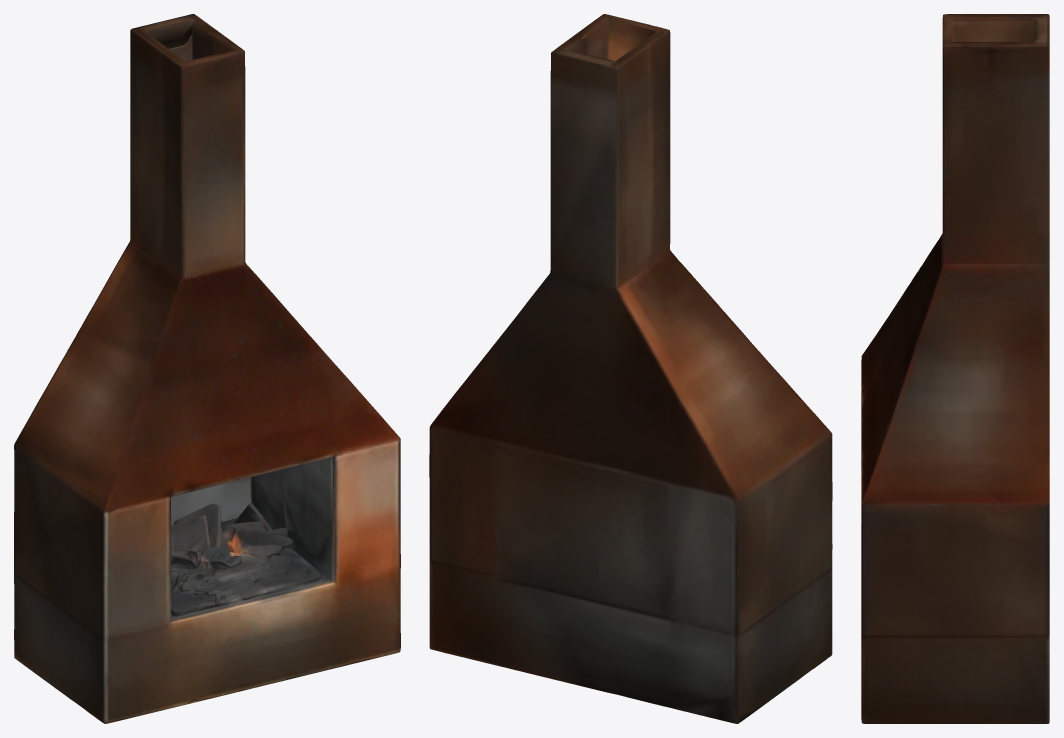
Rendered from JL6X4LDejsnflgxfvoKCn.glb.
3 views of the same model, side by side, from view 1: azimuth 30°, elevation 25°; view 2: azimuth 150°, elevation 25°; view 3: azimuth 270°, elevation 25° (orthographic). The views are drawn at different scales.
Visible parts, largest first — view 1: geometry_0; view 2: geometry_0; view 3: geometry_0.
Boxes of the visible parts, x1,y1,x2,y2 form: geometry_0: (14,14,400,723); geometry_0: (429,14,832,723); geometry_0: (861,14,1049,723).
Bounding box in the file's own units: 0.5192 × 1 × 0.2764.
Materials: 1 (1 with a texture image).
